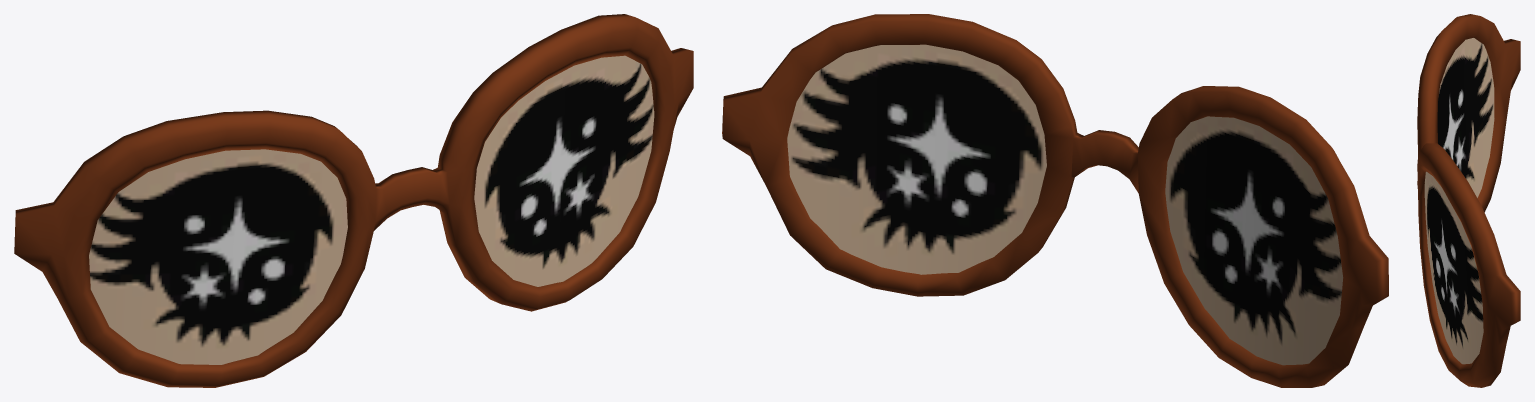
File: AccessoryGlassEyes0.glb
3 renders of one model, left to right at view 1: azimuth 30°, elevation 25°; view 2: azimuth 150°, elevation 25°; view 3: azimuth 270°, elevation 25°, orthographic. The views are drawn at different scales.
Parts seen in each view (by area): view 1: Accessory__mAccessory; view 2: Accessory__mAccessory; view 3: Accessory__mAccessory.
Part boxes in pixels (left/top/right/bottom): Accessory__mAccessory: left=14, top=14, right=693, bottom=387; Accessory__mAccessory: left=722, top=14, right=1388, bottom=387; Accessory__mAccessory: left=1417, top=14, right=1520, bottom=387.
Size of the model in its own units: 6.38 by 2.48 by 1.09.
1 material, 1 textured.
